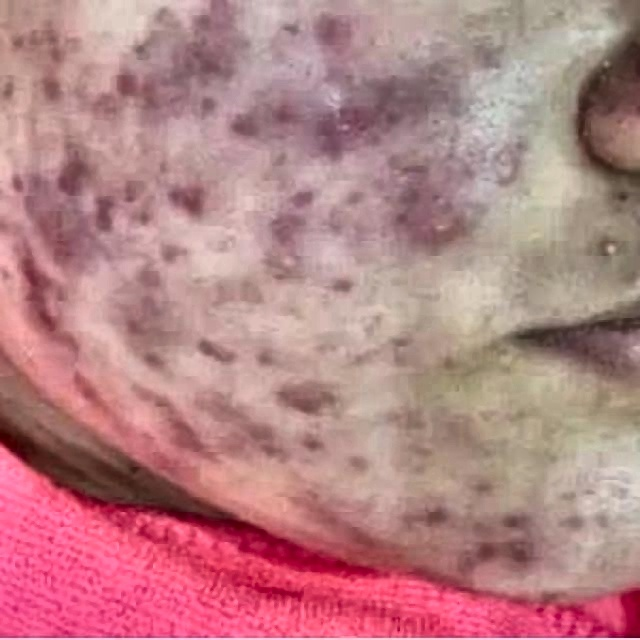nodule: (2, 12, 77, 61), (321, 78, 376, 138), (30, 203, 89, 258), (196, 331, 251, 390), (117, 172, 166, 234), (368, 60, 429, 109), (121, 305, 187, 350), (264, 373, 329, 418), (47, 145, 100, 199), (210, 100, 268, 147), (168, 179, 219, 231), (206, 393, 266, 437), (285, 476, 329, 533), (58, 371, 109, 420), (264, 234, 312, 286), (23, 263, 64, 322), (51, 305, 98, 356), (462, 468, 508, 520), (404, 502, 455, 548), (28, 73, 83, 115), (247, 424, 291, 474), (77, 194, 119, 245), (264, 85, 308, 132), (168, 412, 213, 454), (102, 58, 149, 98), (383, 158, 427, 200), (187, 36, 232, 77), (196, 271, 238, 313), (378, 401, 429, 435), (462, 533, 508, 570), (298, 423, 336, 465), (304, 19, 357, 49), (8, 166, 44, 209), (412, 199, 447, 241), (459, 177, 487, 228), (383, 328, 419, 367), (323, 269, 364, 303), (134, 245, 179, 275), (304, 130, 340, 166), (483, 154, 523, 184), (332, 343, 382, 367), (119, 27, 160, 56), (314, 203, 348, 236), (198, 228, 238, 256), (142, 388, 174, 422), (502, 540, 540, 568), (355, 307, 387, 339), (340, 446, 374, 474), (132, 286, 166, 314), (336, 183, 370, 209), (142, 2, 178, 26), (553, 508, 587, 533), (382, 200, 412, 228), (606, 183, 638, 209), (274, 201, 304, 228), (502, 512, 534, 536), (134, 422, 166, 446), (274, 13, 302, 40), (15, 342, 42, 370), (183, 0, 217, 21), (0, 67, 21, 101), (287, 185, 321, 205), (587, 233, 612, 260), (140, 440, 164, 460), (0, 256, 15, 286)
